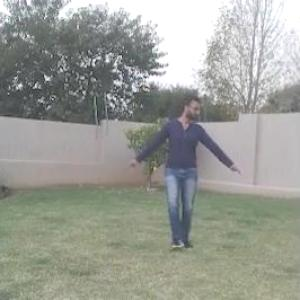land: (114, 80, 256, 267)
